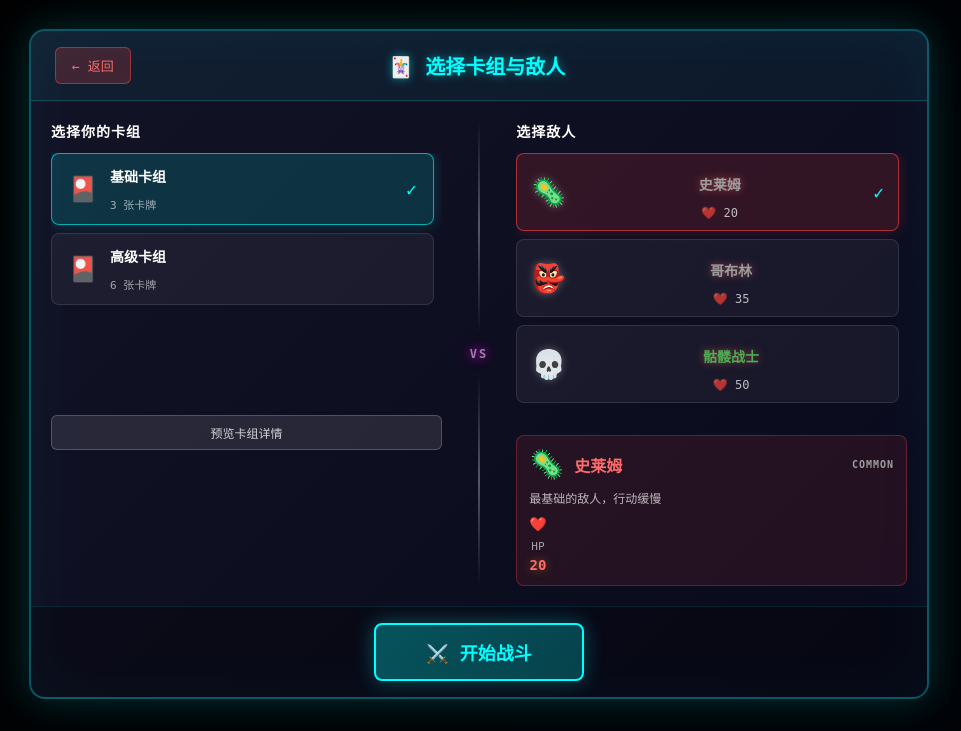
Test: DeckSelectScene Component › 卡组预览 › 再次点击预览按钮应该隐藏卡组详情
Click the button "预览卡组详情" at (246, 432), box [51,415,442,450]
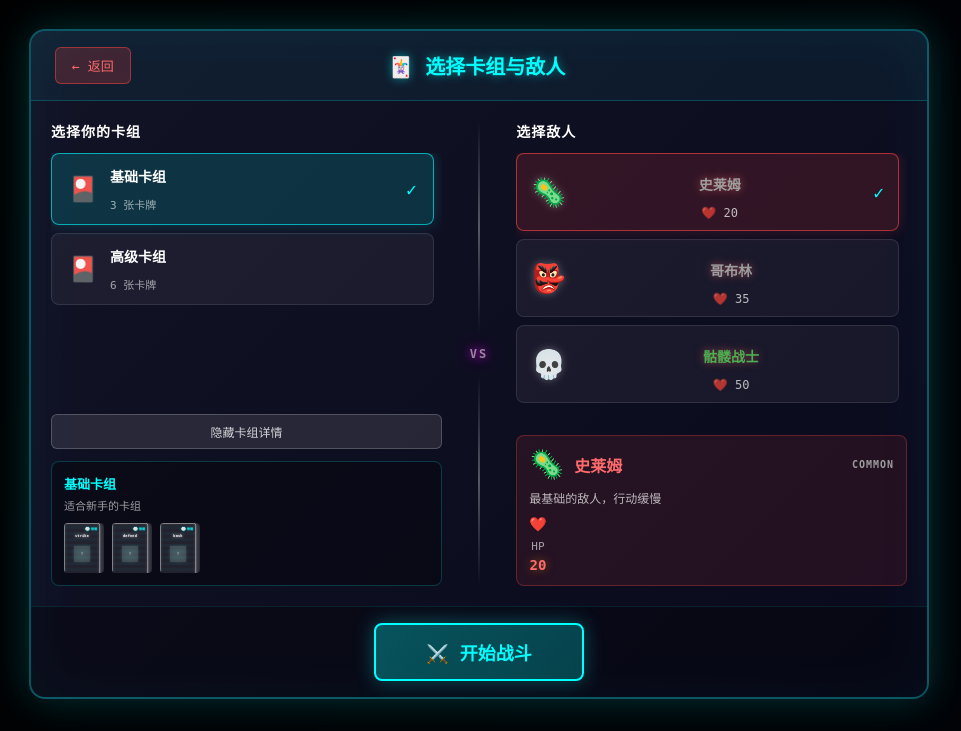
Click the button "隐藏卡组详情" at (246, 432), box [51,414,442,449]
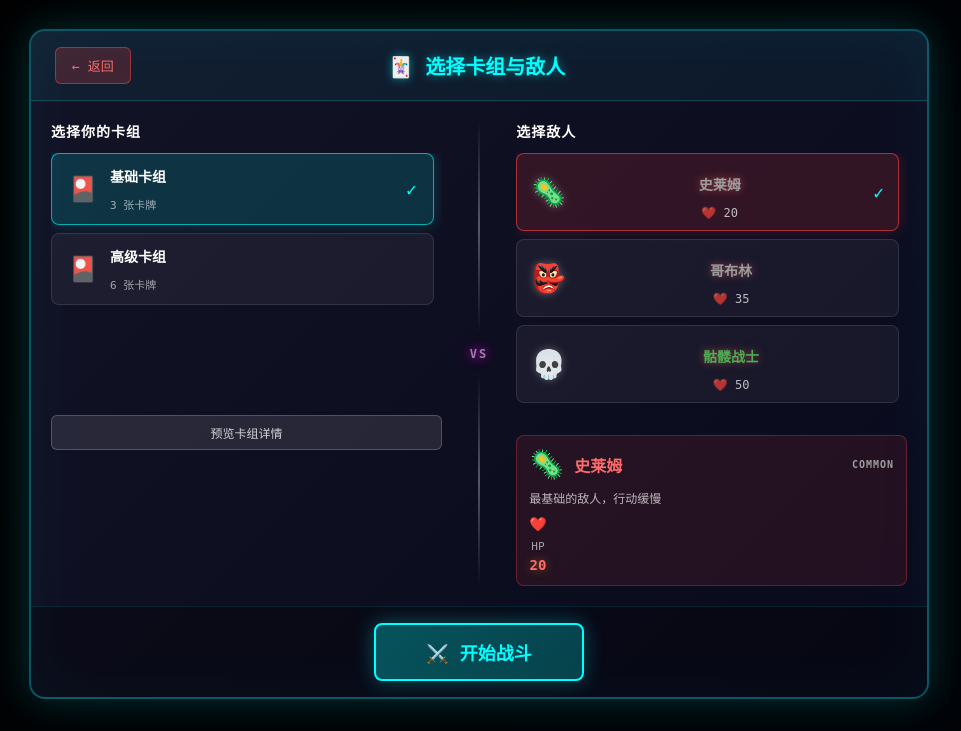
Expected: the button "预览卡组详情" is shown, [51,415,442,450]
Expected: the text "适合新手的卡组" is gone
